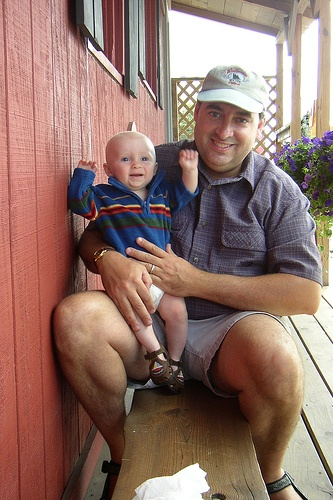head: (189, 66, 270, 169), (97, 125, 168, 192)
person: (41, 60, 333, 500)
